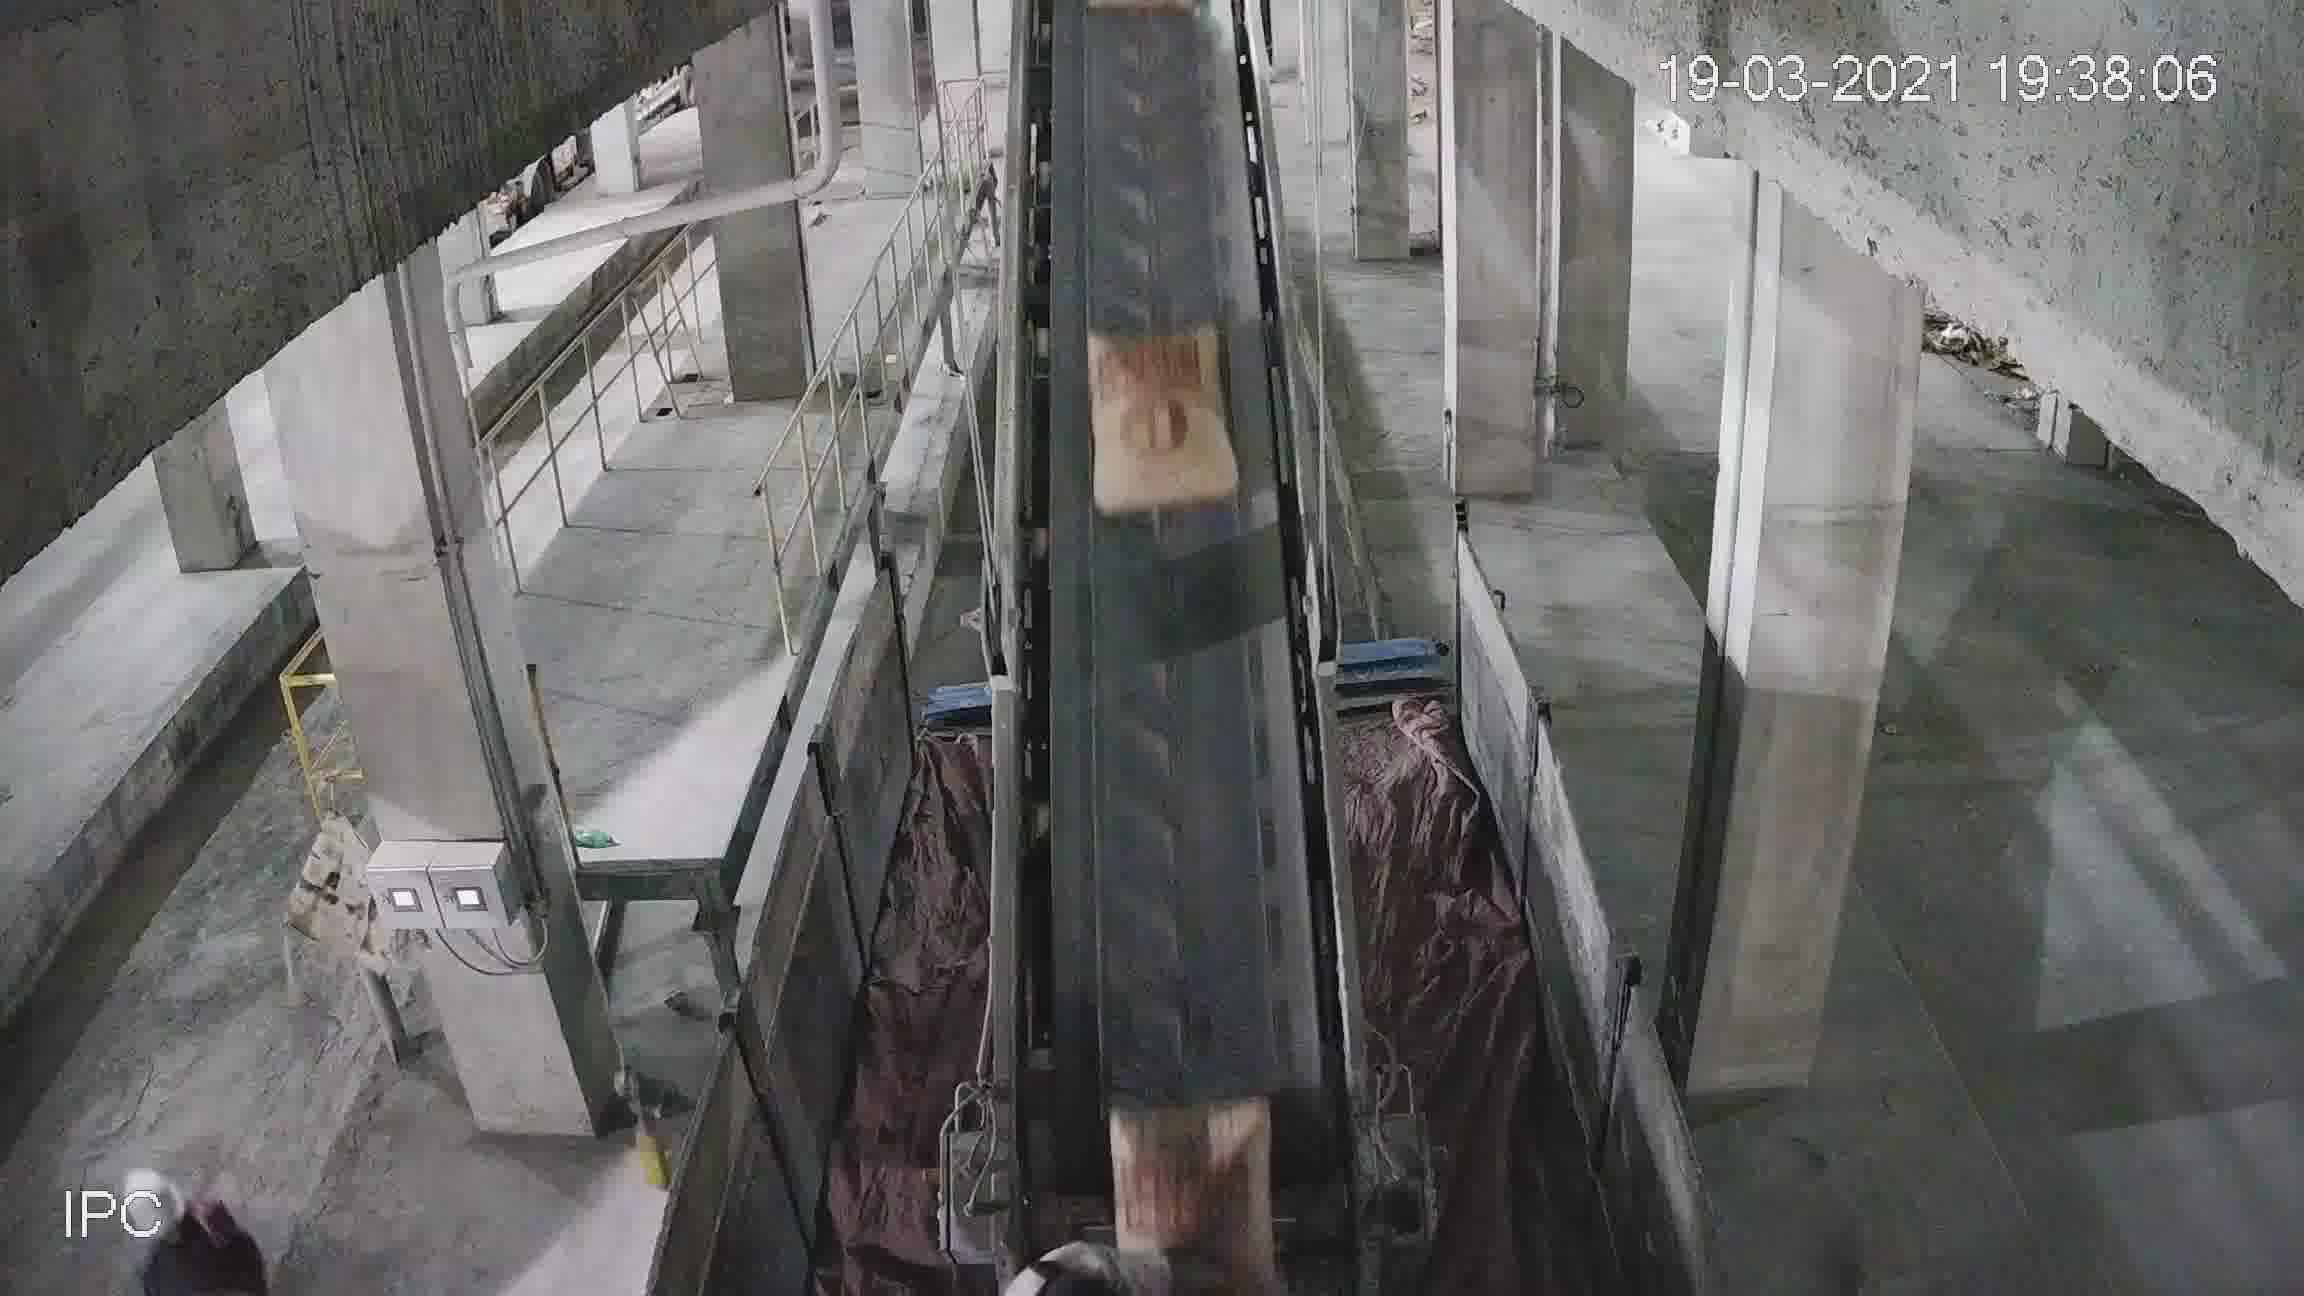bag: (1087, 324, 1226, 517), (1114, 1103, 1275, 1201)
belt: (984, 43, 1340, 1147)
